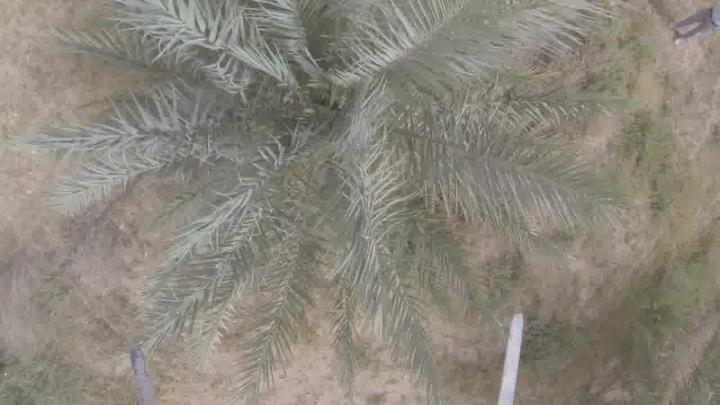Date-Palm-Crown: (169, 1, 468, 258)
